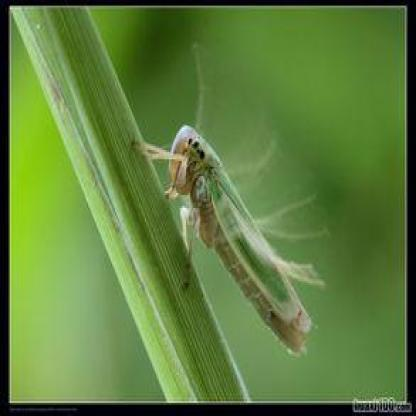green-leafhopper: (130, 123, 314, 358)
